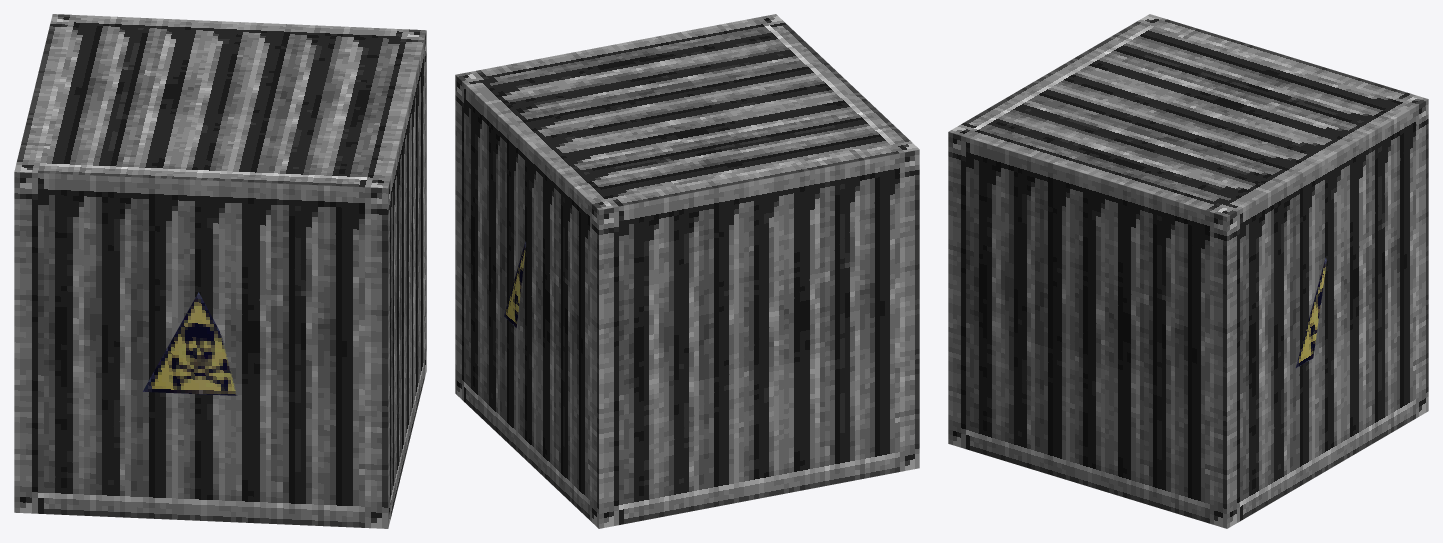
File: primary_379.glb
The picture shows the model from 3 angles, left to right: view 1: azimuth 30°, elevation 25°; view 2: azimuth 150°, elevation 25°; view 3: azimuth 270°, elevation 25°; orthographic projection. The views are drawn at different scales.
Parts seen in each view (by area): view 1: Object; view 2: Object; view 3: Object.
Part boxes in pixels (x1=…): Object: x1=14, y1=14, x2=426, y2=528; Object: x1=455, y1=14, x2=919, y2=528; Object: x1=948, y1=14, x2=1428, y2=528.
Bounding box in the file's own units: 1.84 × 1.32 × 1.84.
Materials: 2 (2 with a texture image).
